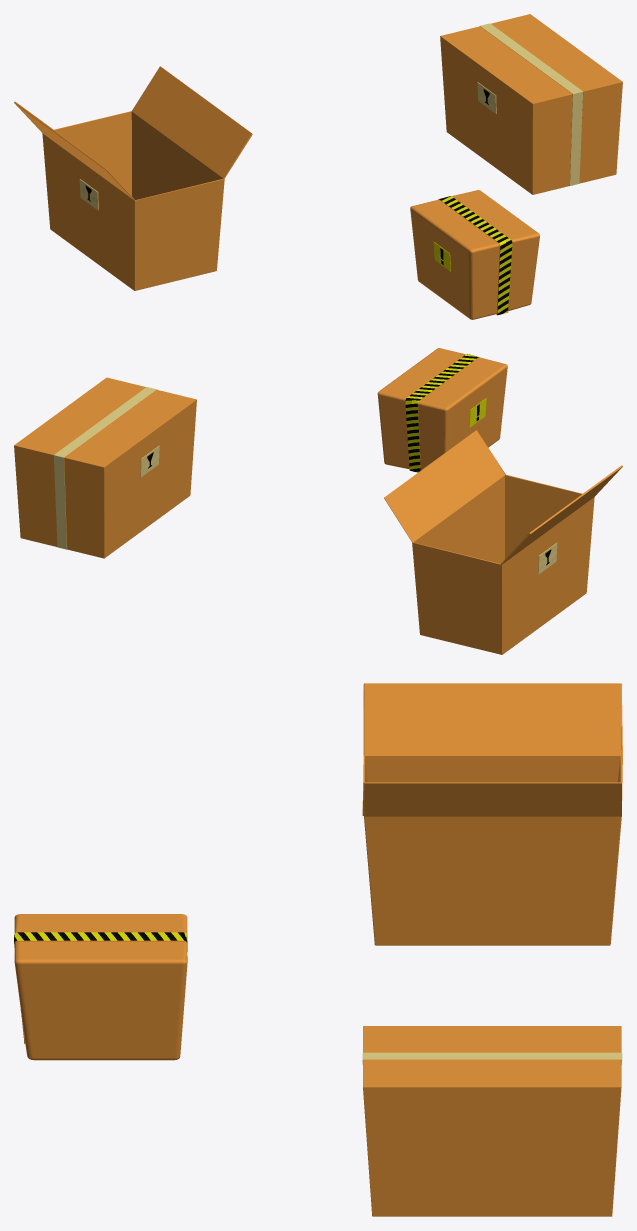
The model's file is Boxs.fbx.
3 renders of one model, top to bottom at view 1: azimuth 30°, elevation 25°; view 2: azimuth 150°, elevation 25°; view 3: azimuth 270°, elevation 25°, orthographic. The views are drawn at different scales.
Parts seen in each view (by area): view 1: Cube.001, Cube, Cube.002; view 2: Cube.001, Cube, Cube.002; view 3: Cube.001, Cube, Cube.002.
Part boxes in pixels (<box>): Cube.001: <box>14,66,252,290</box>; Cube: <box>440,14,622,194</box>; Cube.002: <box>410,190,539,319</box>; Cube.001: <box>384,430,622,654</box>; Cube: <box>14,377,196,558</box>; Cube.002: <box>377,348,507,472</box>; Cube.001: <box>362,683,622,945</box>; Cube: <box>362,1026,622,1216</box>; Cube.002: <box>14,914,187,1060</box>.
Size of the model in its own units: 1144 by 281 by 838.
